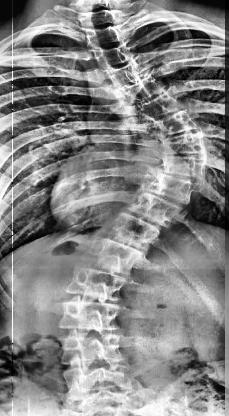Vertebrae: (56, 332, 132, 366), (65, 267, 131, 301), (103, 216, 165, 250), (116, 76, 178, 106), (84, 243, 144, 273), (128, 196, 186, 226), (60, 302, 124, 328), (148, 175, 202, 203), (135, 94, 193, 120), (148, 113, 210, 135), (156, 132, 212, 156), (102, 59, 148, 87), (165, 157, 214, 181), (96, 42, 139, 68), (88, 25, 126, 46), (82, 5, 122, 22)
